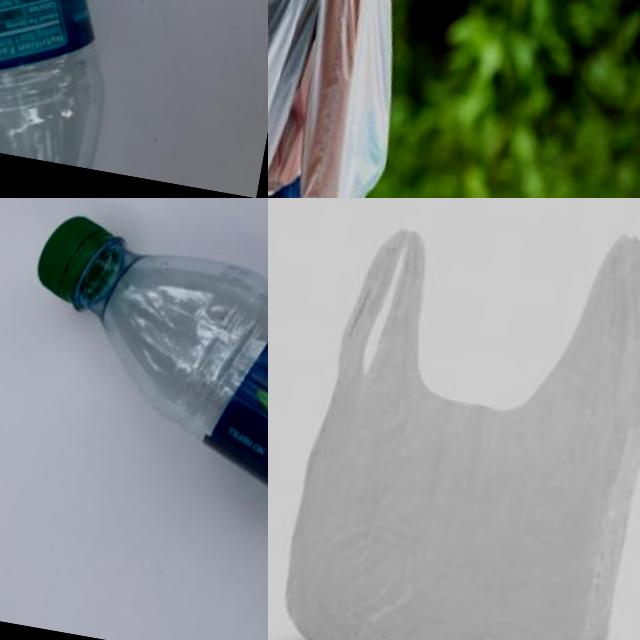garrafa plástica: (55, 235, 268, 604), (0, 0, 161, 170)
sacola plástica: (268, 198, 640, 640), (268, 0, 489, 198), (268, 0, 378, 198)
tampa plástica: (30, 207, 128, 316)
